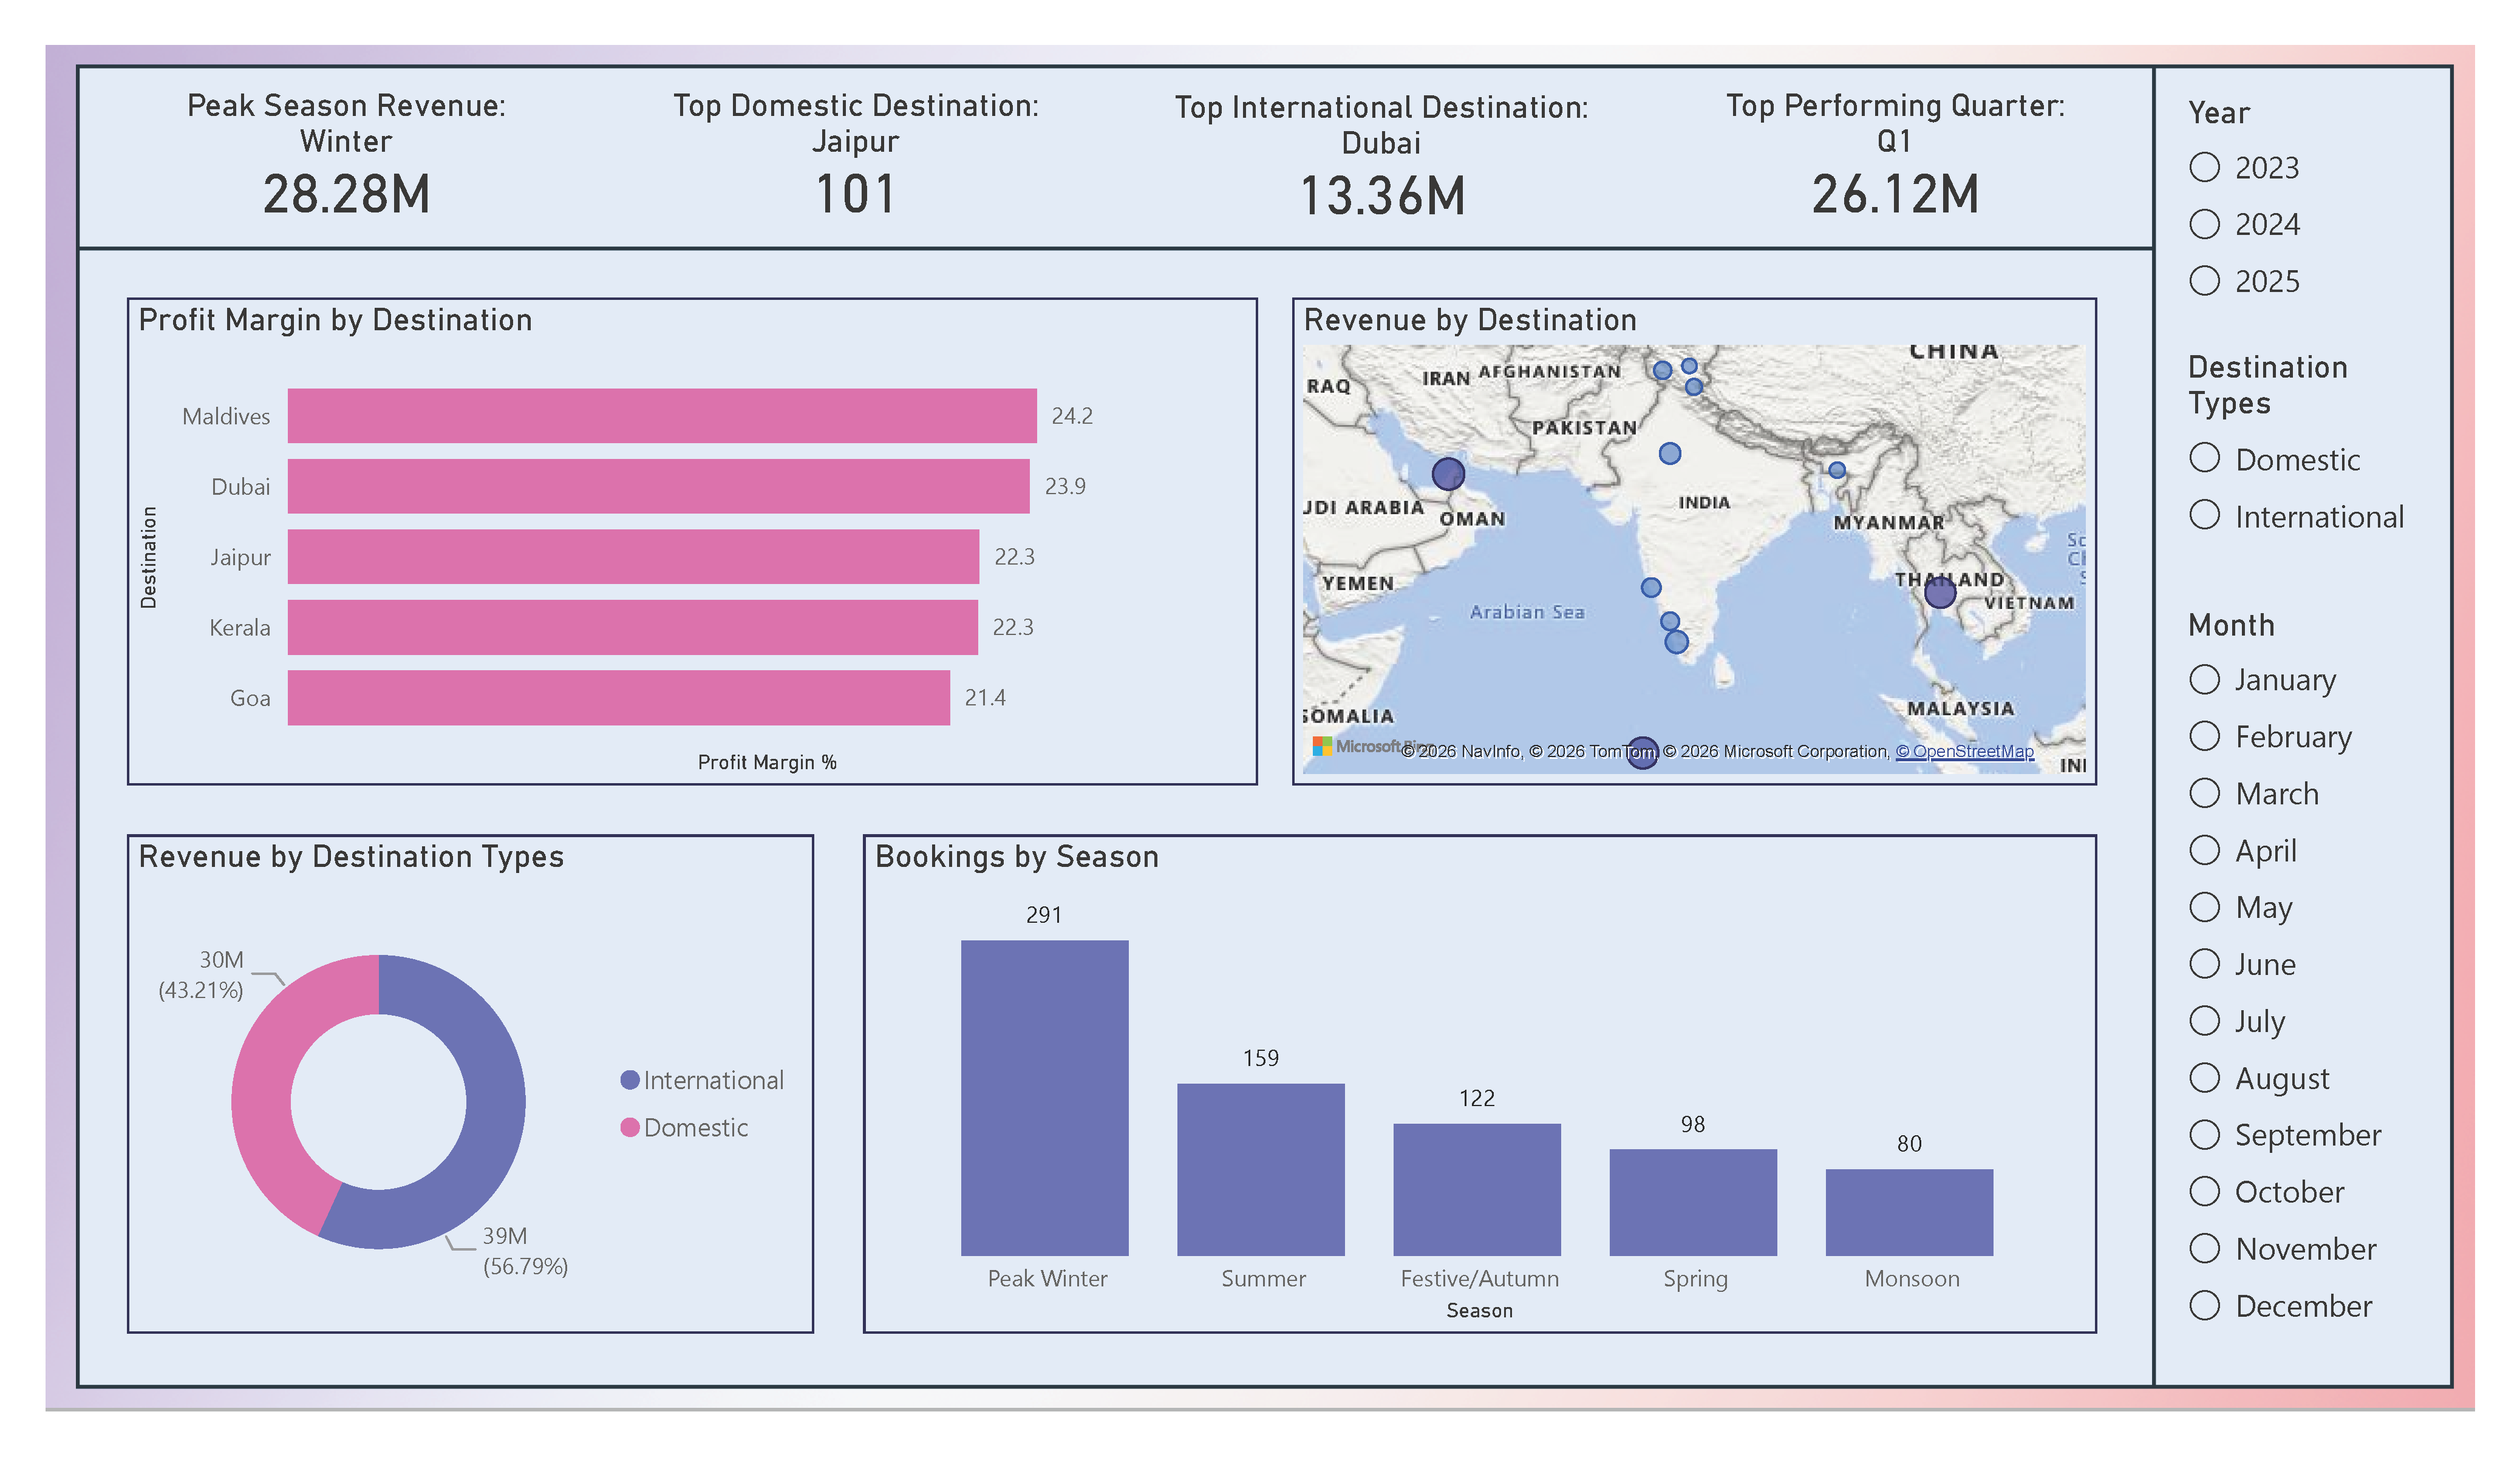

Layout of this report page (visuals, bound fields, positions):
{"tool":"powerbi","page":{"name":"Destination Analysis","canvas":[1280,720],"ordinal":2},"visuals":[{"type":"columnChart","title":"Bookings by Season","fields":{"Category":["Bookings.Season"],"Y":["CountNonNull(Bookings.Booking_ID)"]},"box":[430.8,415.9,650.3,262.8],"z":0},{"type":"listSlicer","title":"Month","fields":{"Values":["Bookings.Month_Name"]},"box":[1124.3,295,129.5,397.5],"z":1000},{"type":"listSlicer","fields":{"Values":["Bookings.Year"]},"box":[1123.8,25,130,125],"z":2000},{"type":"donutChart","title":"Revenue by Destination Types","fields":{"Category":["Bookings.Destination_Type"],"Y":["Sum(Bookings.Revenue_INR)"]},"box":[43.4,415.9,361.7,262.8],"z":3000},{"type":"map","title":"Revenue by Destination","fields":{"Category":["Bookings.Destination"],"Size":["Sum(Bookings.Revenue_INR)"],"Series":["Bookings.Destination_Type"]},"box":[657.1,132.8,424,257.4],"z":4000},{"type":"kpi","title":"Peak Season Revenue: Winter","fields":{"Indicator":["Sum(Bookings.Revenue_INR)"],"TrendLine":["Bookings.Season"]},"box":[42.9,21.4,231,75],"z":5000},{"type":"barChart","title":"Profit Margin by Destination","fields":{"Category":["Bookings.Destination"],"Y":["Avg(Bookings.Profit_Margin_%)"]},"box":[43.4,132.8,596.1,257.4],"z":6000},{"type":"listSlicer","title":"Destination Types","fields":{"Values":["Bookings.Destination_Type"]},"box":[1123.8,158.8,130,122.5],"z":7000},{"type":"kpi","title":"Top Domestic Destination: Jaipur","fields":{"Indicator":["CountNonNull(Bookings.Destination)"],"TrendLine":["Bookings.Destination_Type"]},"box":[311.9,21.4,230,75],"z":8000},{"type":"kpi","title":"Top International Destination: Dubai","fields":{"TrendLine":["Bookings.Destination"],"Indicator":["Sum(Bookings.Revenue_INR)"]},"box":[589.3,21.7,230,75],"z":9000},{"type":"kpi","title":"Top Performing Quarter: Q1","fields":{"Indicator":["Sum(Seasonal_Analysis.Total_Revenue_INR)"],"TrendLine":["Bookings.Quarter"]},"box":[869.1,21.4,211.9,75],"z":10000}]}

Visuals, with their boxes on the page's 1280x720 design canvas (x1, y1, x2, y2). These are canvas units, not pixel positions in the 2520x1457 screenshot, which may show the page scaled, cropped or inside an application window:
"Bookings by Season" columnChart: pyautogui.locateOnScreen(431, 416, 1081, 679)
"Month" listSlicer: pyautogui.locateOnScreen(1124, 295, 1254, 692)
listSlicer - Bookings.Year: pyautogui.locateOnScreen(1124, 25, 1254, 150)
"Revenue by Destination Types" donutChart: pyautogui.locateOnScreen(43, 416, 405, 679)
"Revenue by Destination" map: pyautogui.locateOnScreen(657, 133, 1081, 390)
"Peak Season Revenue: Winter" kpi: pyautogui.locateOnScreen(43, 21, 274, 96)
"Profit Margin by Destination" barChart: pyautogui.locateOnScreen(43, 133, 640, 390)
"Destination Types" listSlicer: pyautogui.locateOnScreen(1124, 159, 1254, 281)
"Top Domestic Destination: Jaipur" kpi: pyautogui.locateOnScreen(312, 21, 542, 96)
"Top International Destination: Dubai" kpi: pyautogui.locateOnScreen(589, 22, 819, 97)
"Top Performing Quarter: Q1" kpi: pyautogui.locateOnScreen(869, 21, 1081, 96)
